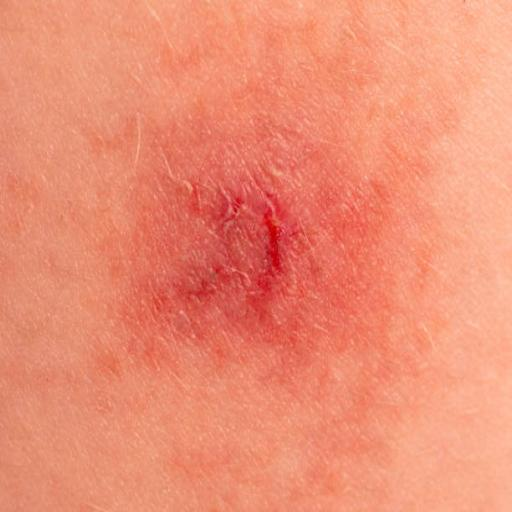bruises: (201, 216, 340, 334)
